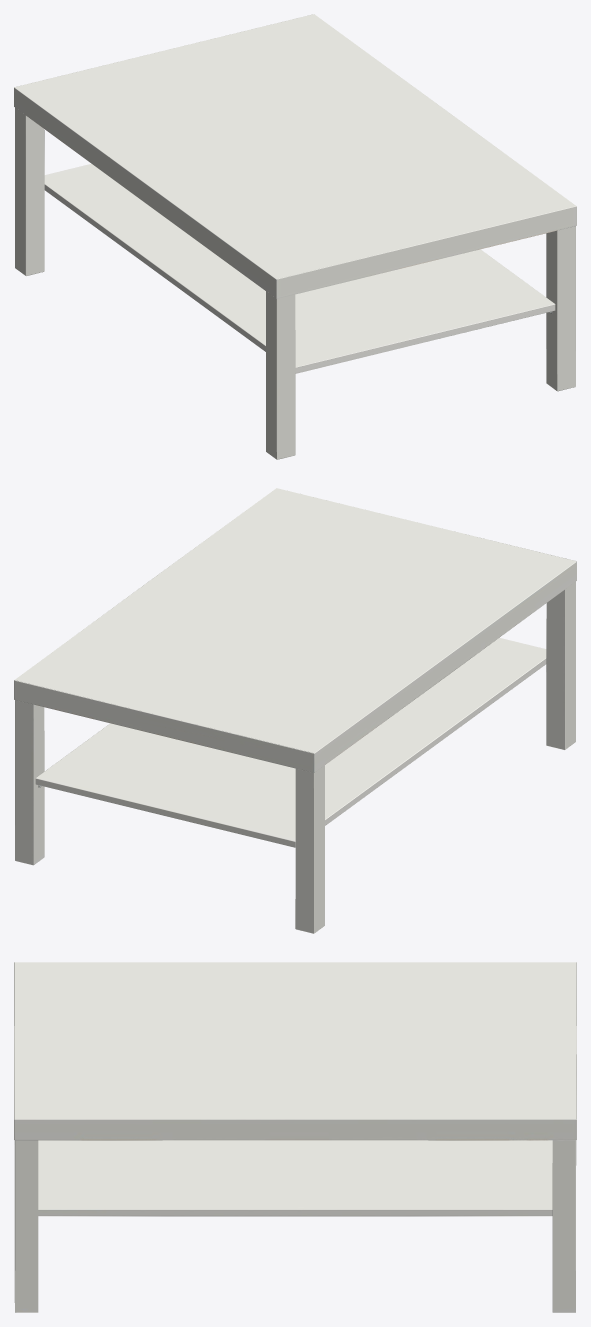
File: lack_coffee_table_white.glb
3 renders of one model, top to bottom at view 1: azimuth 30°, elevation 25°; view 2: azimuth 150°, elevation 25°; view 3: azimuth 270°, elevation 25°, orthographic. The views are drawn at different scales.
Visible parts, largest first — view 1: model; view 2: model; view 3: model.
Boxes of the visible parts, left/top/right/bottom form: model: left=14, top=14, right=576, bottom=459; model: left=14, top=488, right=576, bottom=933; model: left=14, top=962, right=576, bottom=1312.
Size of the model in its own units: 0.7799 by 0.4491 by 1.18.
Materials: 1 (1 with a texture image).
